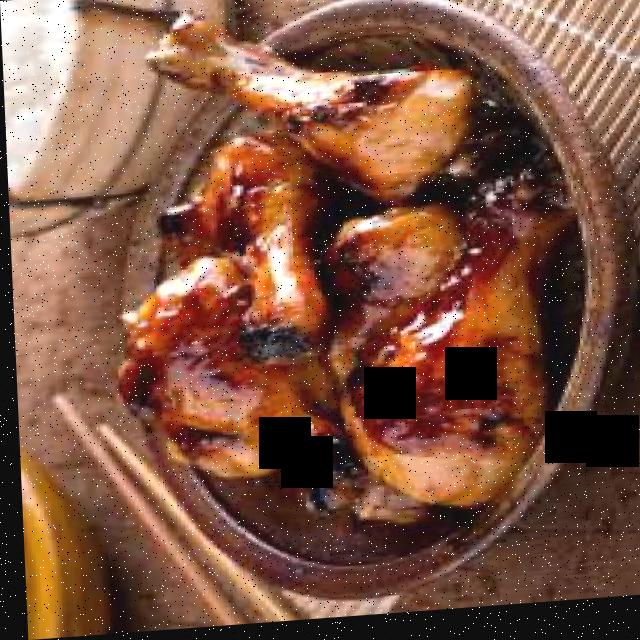Frango: (119, 0, 565, 536)
